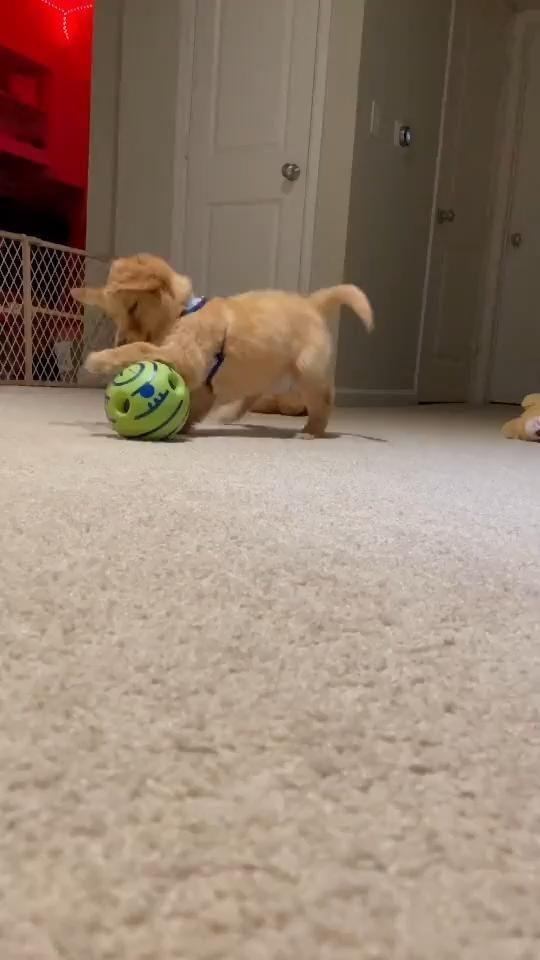puppy-dog: (70, 251, 376, 440)
